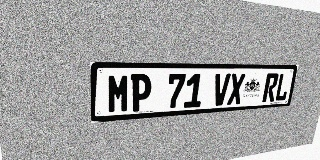1: (184, 74, 204, 108)
7: (165, 74, 186, 109)
L: (274, 73, 291, 101)
M: (107, 74, 130, 114)
P: (130, 74, 152, 112)
R: (262, 73, 279, 102)
V: (212, 73, 231, 106)
X: (227, 73, 246, 105)
